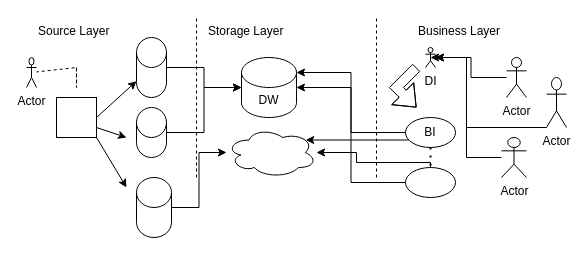
The diagram is 587 pixels wide and 255 high, and some of its shapes have lost their labels. Here are the shapes that lost their labels. From the top down, the centre of each, then its label:
At point 76,117: "www".
At point 271,152: "DL".
At point 430,182: "SQL".
